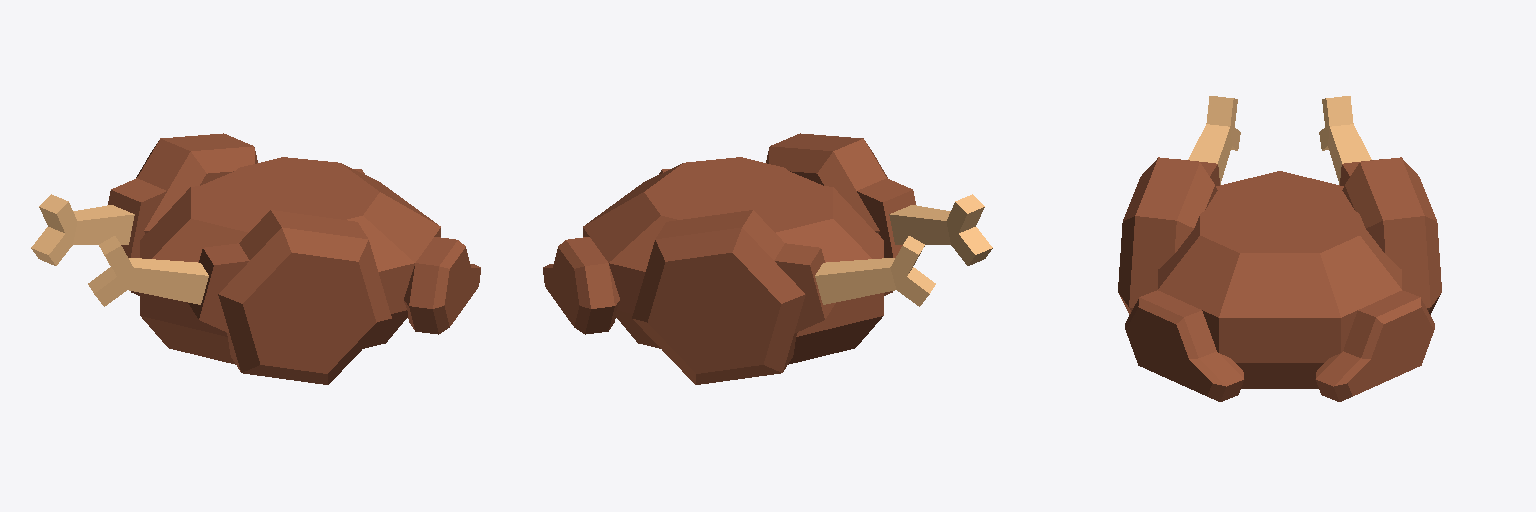
The model's file is turkey.obj.
3 renders of one model, left to right at view 1: azimuth 30°, elevation 25°; view 2: azimuth 150°, elevation 25°; view 3: azimuth 270°, elevation 25°, orthographic.
Visible parts, largest first — view 1: leg, turkey; view 2: leg, turkey; view 3: turkey, leg.
Part boxes in pixels (left/top/right/bottom): leg: left=31, top=133, right=391, bottom=384; turkey: left=140, top=157, right=480, bottom=364; leg: left=632, top=133, right=992, bottom=384; turkey: left=543, top=157, right=883, bottom=364; turkey: left=1125, top=171, right=1434, bottom=401; leg: left=1118, top=96, right=1441, bottom=314.
Size of the model in its own units: 0.9348 by 0.3769 by 0.679.